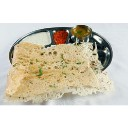dosa: (5, 42, 111, 99)
